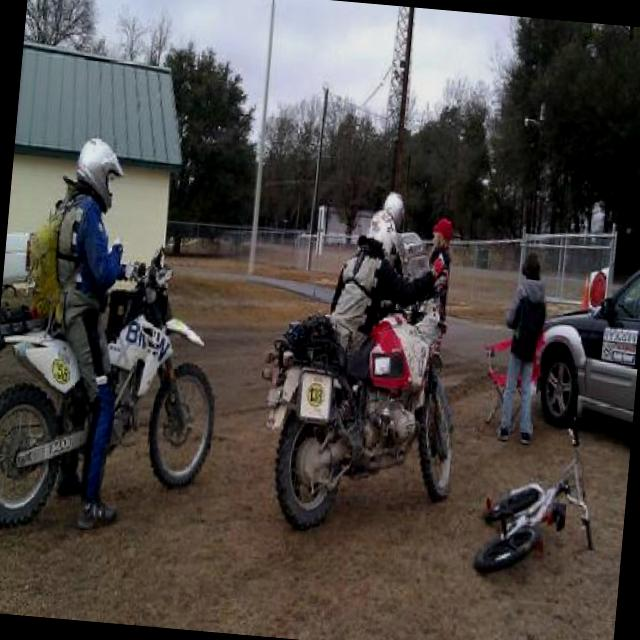Person: (32, 130, 148, 528), (324, 227, 444, 358), (493, 248, 549, 440), (423, 214, 455, 323), (362, 188, 406, 260)
